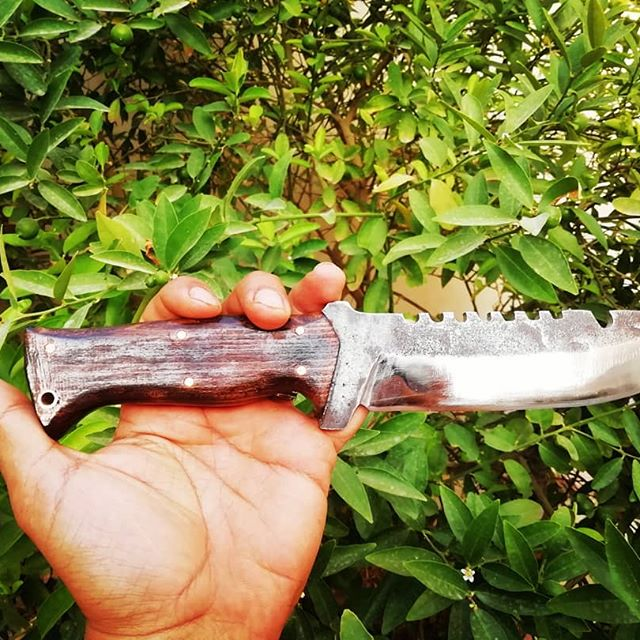knife: (23, 301, 640, 433)
